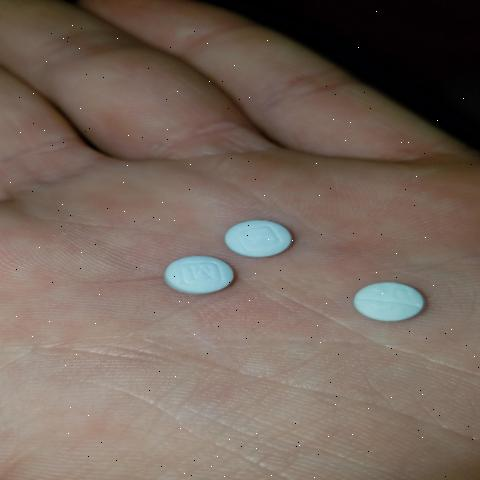Pill: (216, 192, 322, 260), (332, 278, 450, 327), (148, 251, 246, 301)
